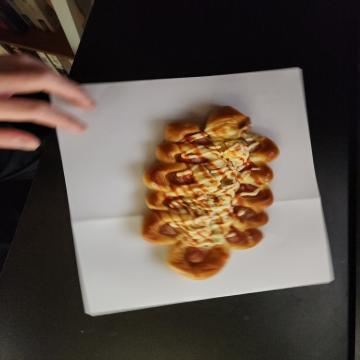pizza_bread: (103, 82, 283, 229)
